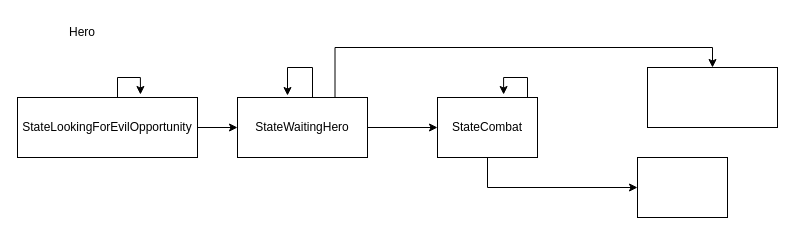
This 795x235 diagram has some shape labels left out. The centre of each missing label's shape, as x and y in pixels:
StateDead: the point at 682,187
StateEscapedWithIt: the point at 712,97
